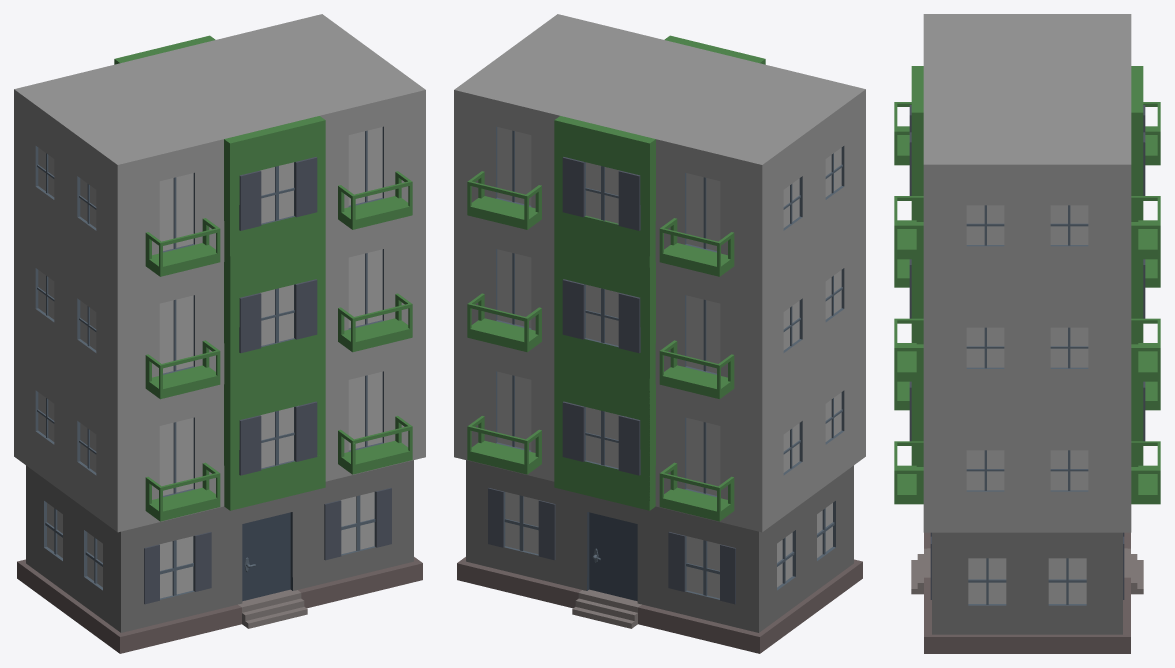
File: FD-House Green.fbx
The picture shows the model from 3 angles, left to right: view 1: azimuth 30°, elevation 25°; view 2: azimuth 150°, elevation 25°; view 3: azimuth 270°, elevation 25°; orthographic projection.
Parts seen in each view (by area): view 1: immeuble; view 2: immeuble; view 3: immeuble.
Part boxes in pixels (x1,y1,x2,y2): immeuble: (14, 14, 425, 653); immeuble: (454, 14, 865, 653); immeuble: (894, 14, 1160, 653).
Size of the model in its own units: 4482 by 6804 by 3346.
